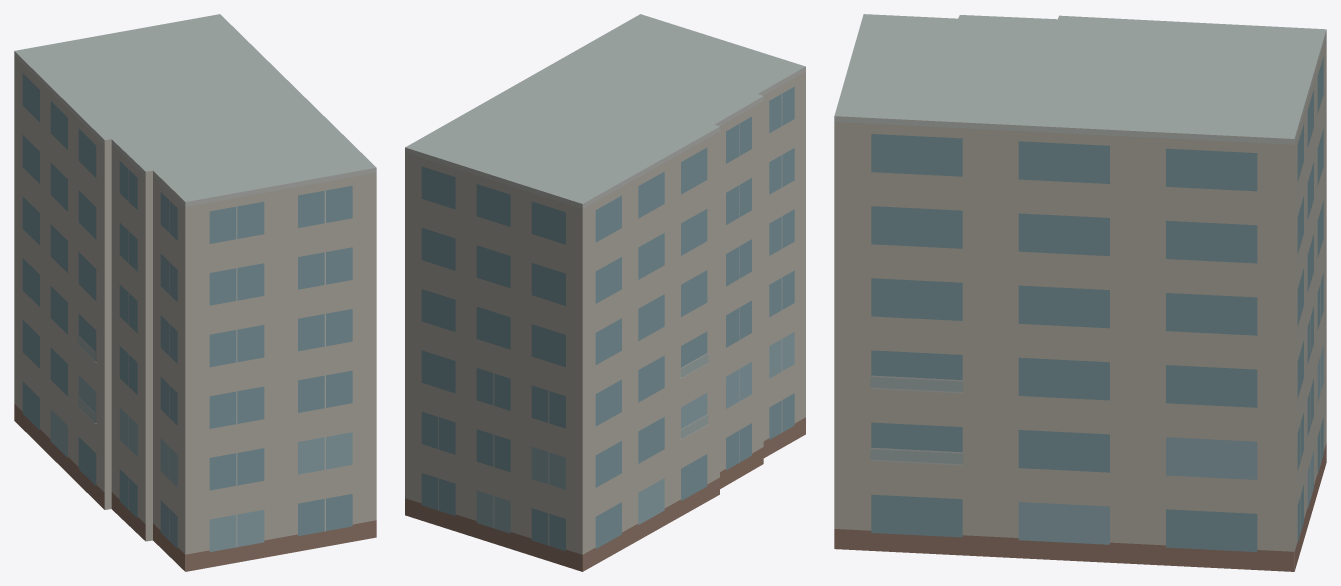
File: survey-upis-32942002.glb
3 views of the same model, side by side, from view 1: azimuth 30°, elevation 25°; view 2: azimuth 150°, elevation 25°; view 3: azimuth 270°, elevation 25° (orthographic). The views are drawn at different scales.
Parts seen in each view (by area): view 1: survey-upis-32942002.tmp; view 2: survey-upis-32942002.tmp; view 3: survey-upis-32942002.tmp.
Boxes of the visible parts, left/top/right/bottom form: survey-upis-32942002.tmp: left=14, top=14, right=376, bottom=571; survey-upis-32942002.tmp: left=405, top=14, right=805, bottom=571; survey-upis-32942002.tmp: left=834, top=14, right=1326, bottom=571.
Size of the model in its own units: 11.34 by 18.3 by 18.87.
